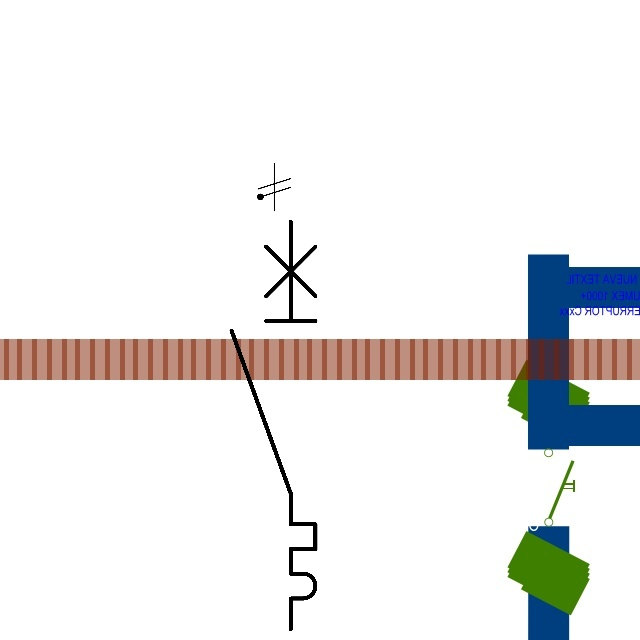interruptor_termomagnetico: (221, 211, 326, 639)
